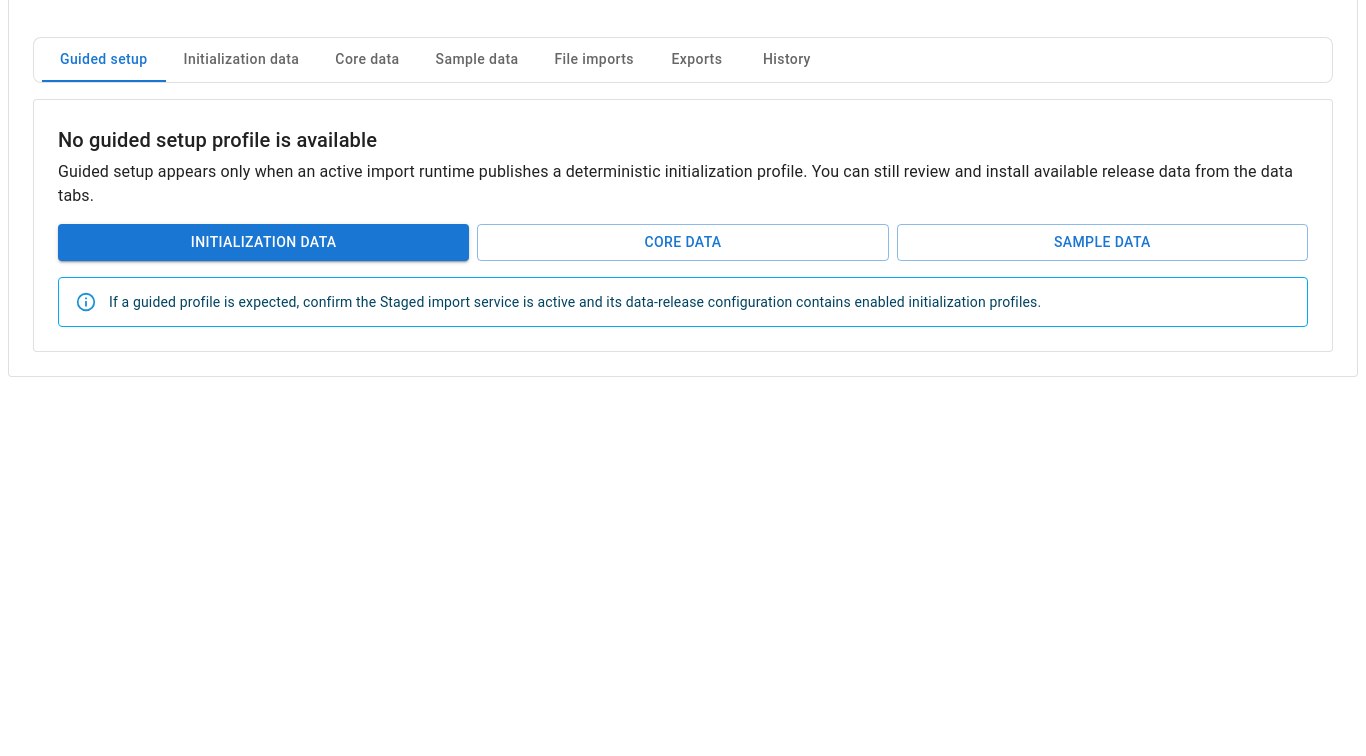
Test: ImportExportRoutePage › uses destination runtime catalogue status for Platform releases
Click the tab "Initialization data" at (242,60), box [166,38,317,82]
(page scrolled)
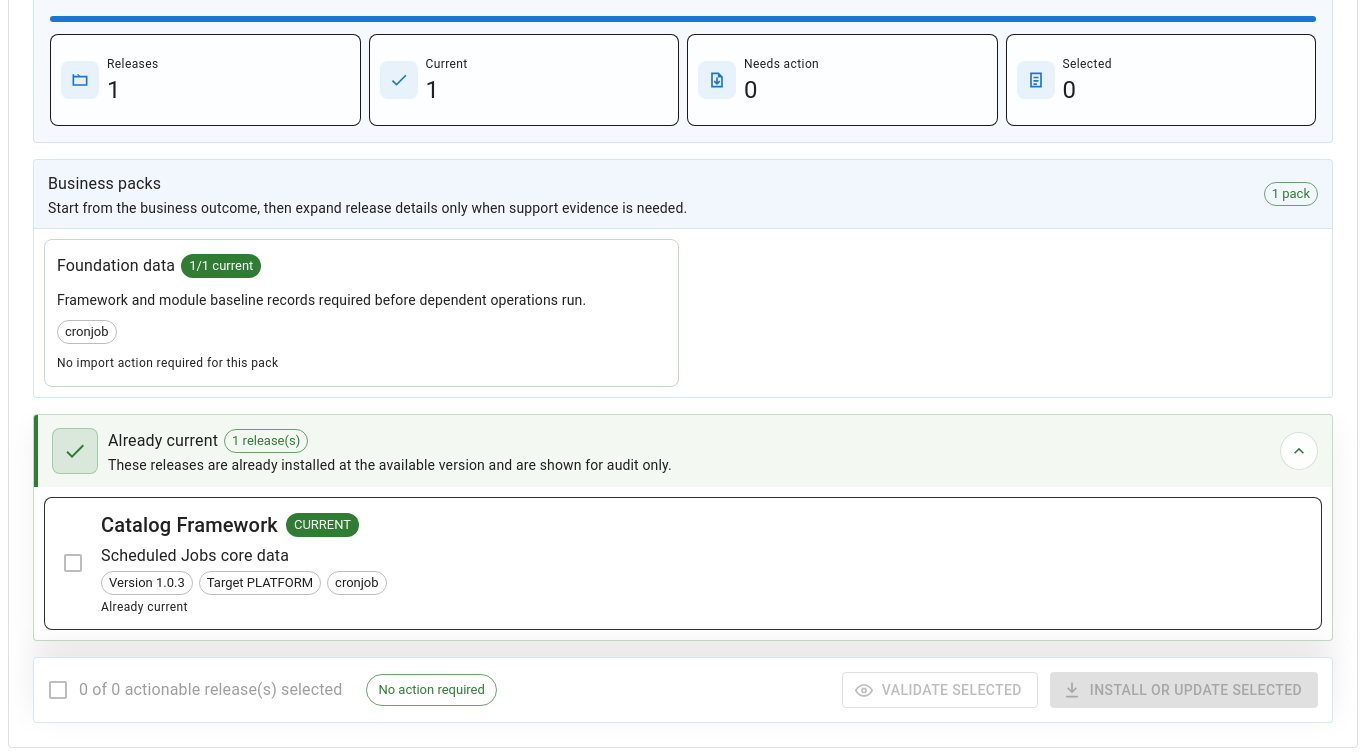
Expected: the heading "Already current" is shown, [108,427,218,455]
Expected: the heading "Catalog Framework" is shown, [101,509,278,541]
Expected: the text "Version 1.0.3" is shown, [109,575,185,590]
